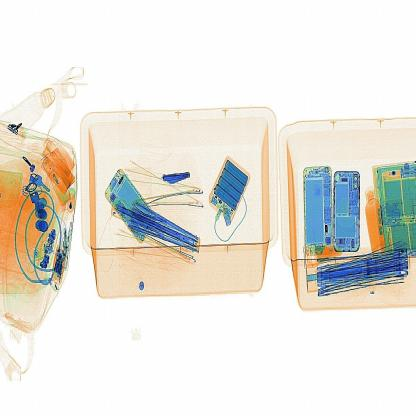knife: (160, 163, 200, 199)
